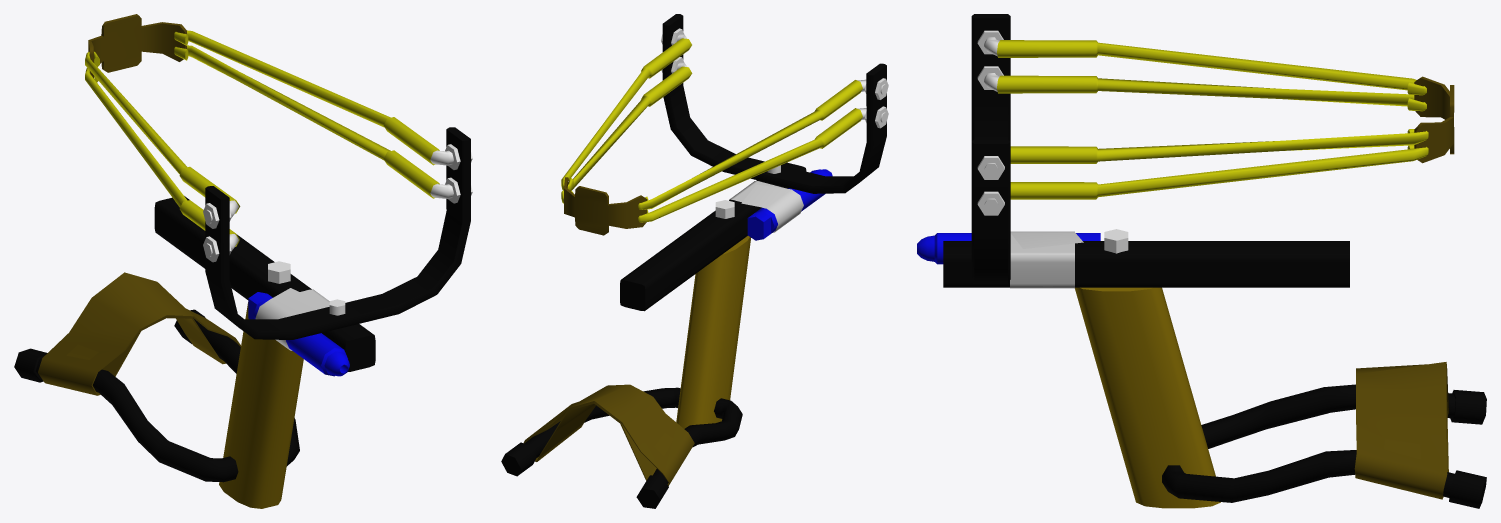
Rendered from EstilingueTeste.fbx.
3 views of the same model, side by side, from view 1: azimuth 30°, elevation 25°; view 2: azimuth 150°, elevation 25°; view 3: azimuth 270°, elevation 25° (orthographic). The views are drawn at different scales.
Visible parts, largest first — view 1: Estilingue; view 2: Estilingue; view 3: Estilingue.
Part boxes in pixels (box(x1,y1,x2,y2)): Estilingue: box(14, 14, 472, 508); Estilingue: box(501, 14, 888, 508); Estilingue: box(917, 14, 1486, 508).
Bounding box in the file's own units: 13.77 × 19.92 × 24.54.
